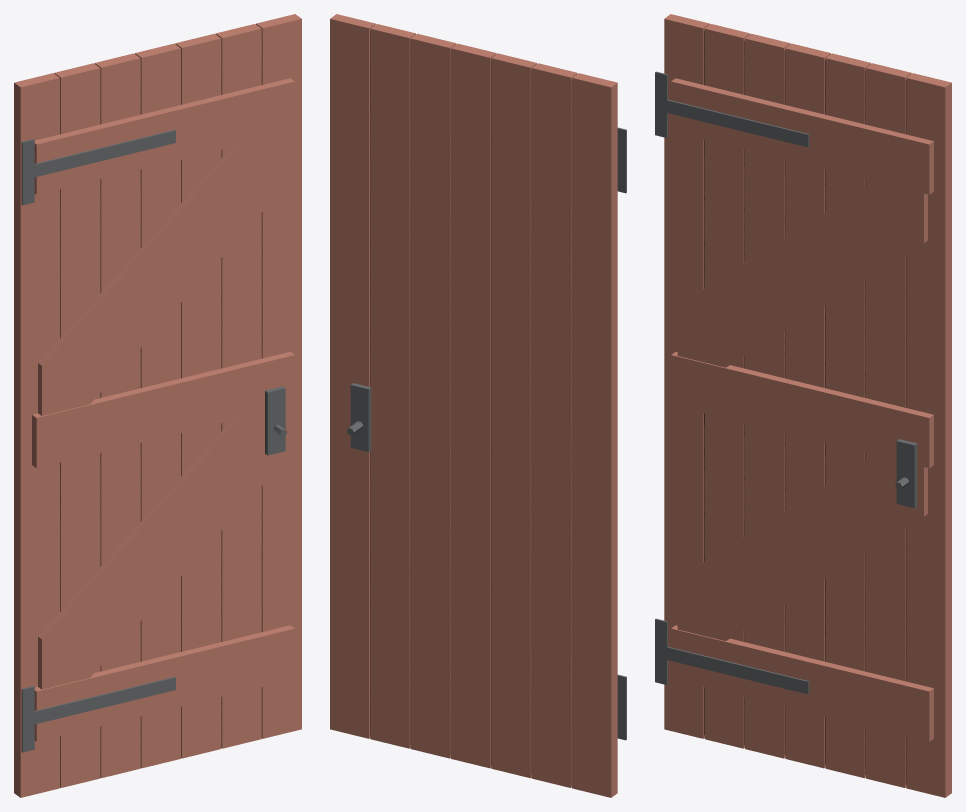
The model's file is door_plank.glb.
3 views of the same model, side by side, from view 1: azimuth 30°, elevation 25°; view 2: azimuth 150°, elevation 25°; view 3: azimuth 330°, elevation 25° (orthographic).
Visible parts, largest first — view 1: door_plank_door, door_plank_iron, door_plank_dkwood; view 2: door_plank_door, door_plank_dkwood, door_plank_iron; view 3: door_plank_door, door_plank_iron, door_plank_dkwood.
Part boxes in pixels (x1,y1,x2,y2): door_plank_door: (14, 14, 301, 797); door_plank_iron: (21, 129, 286, 752); door_plank_dkwood: (60, 31, 261, 784); door_plank_door: (330, 14, 617, 797); door_plank_dkwood: (370, 31, 571, 784); door_plank_iron: (347, 127, 626, 740); door_plank_door: (664, 14, 951, 797); door_plank_iron: (655, 71, 917, 694); door_plank_dkwood: (704, 31, 906, 784).
Size of the model in its own units: 0.948 by 2.26 by 0.19.
3 materials, 1 textured.
